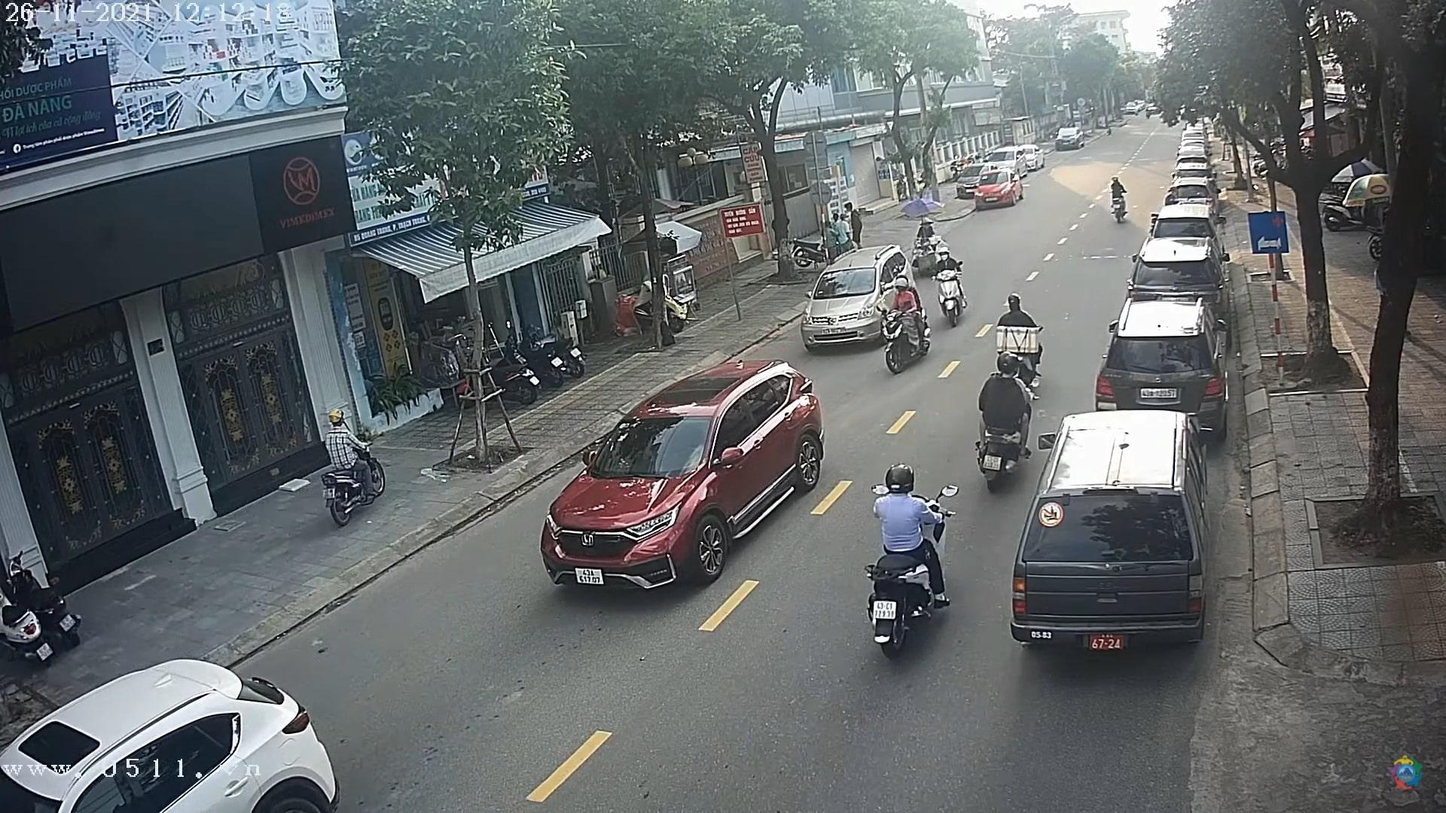car: (541, 357, 829, 595), (1010, 410, 1201, 647), (1096, 297, 1227, 418), (801, 242, 918, 356), (1133, 231, 1219, 289), (1057, 125, 1088, 149)
motorbike: (863, 519, 950, 663), (970, 385, 1034, 495), (878, 306, 930, 370), (931, 269, 970, 330)
